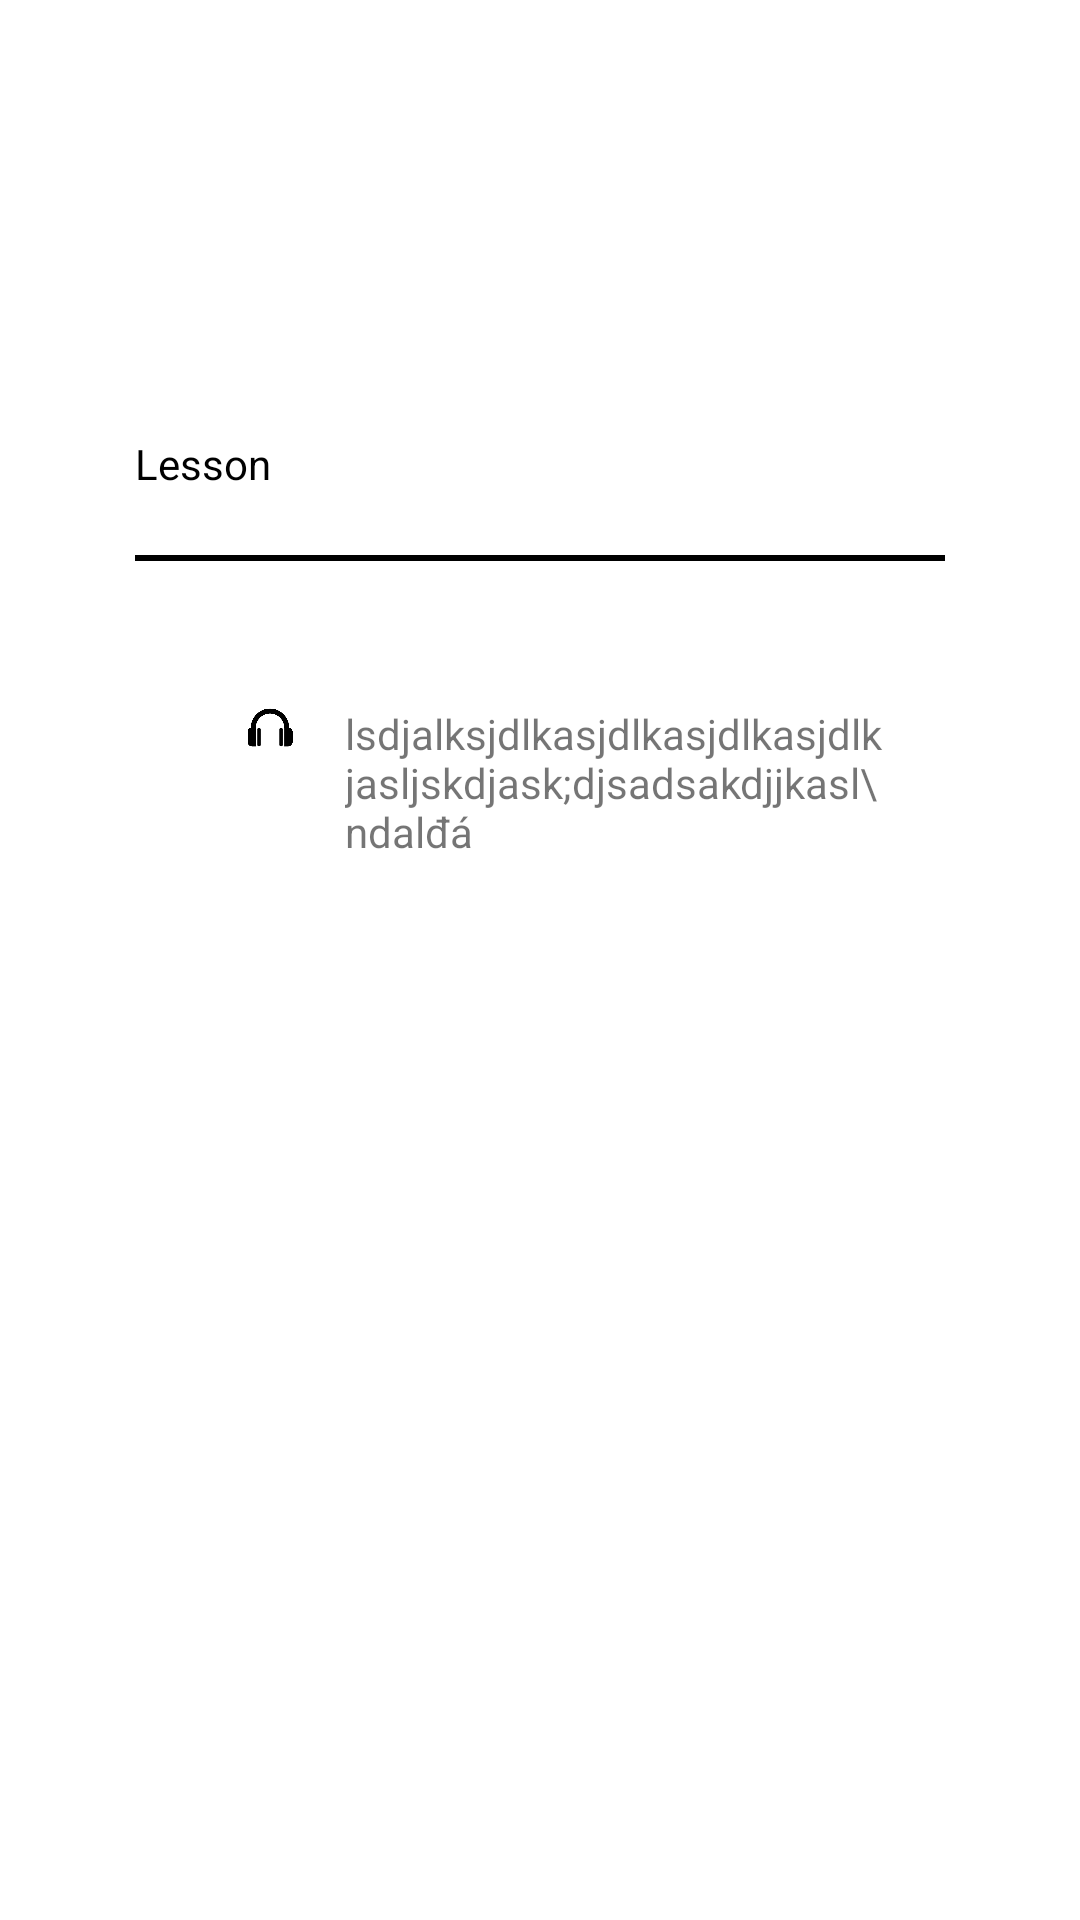

Icon click points for this 1080 × 1920 phone screenshot, format [x,y]:
headphone: [270,728]
